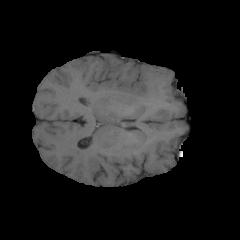glioma: (83, 66, 172, 125)
